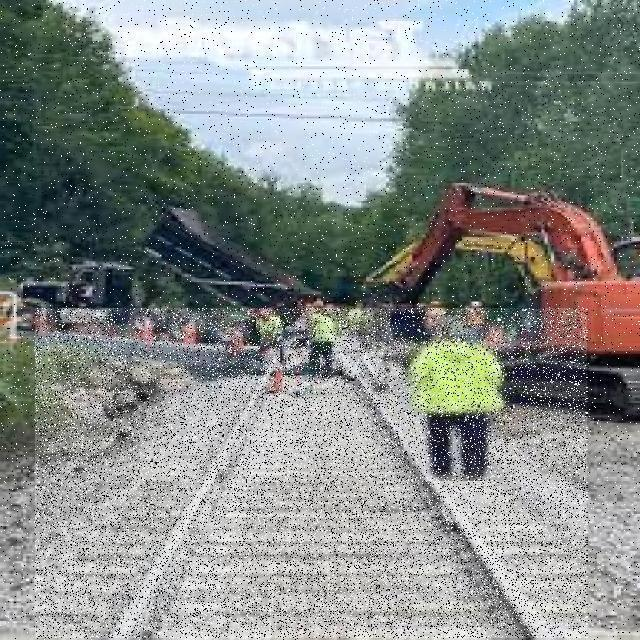rail: (36, 310, 588, 639)
